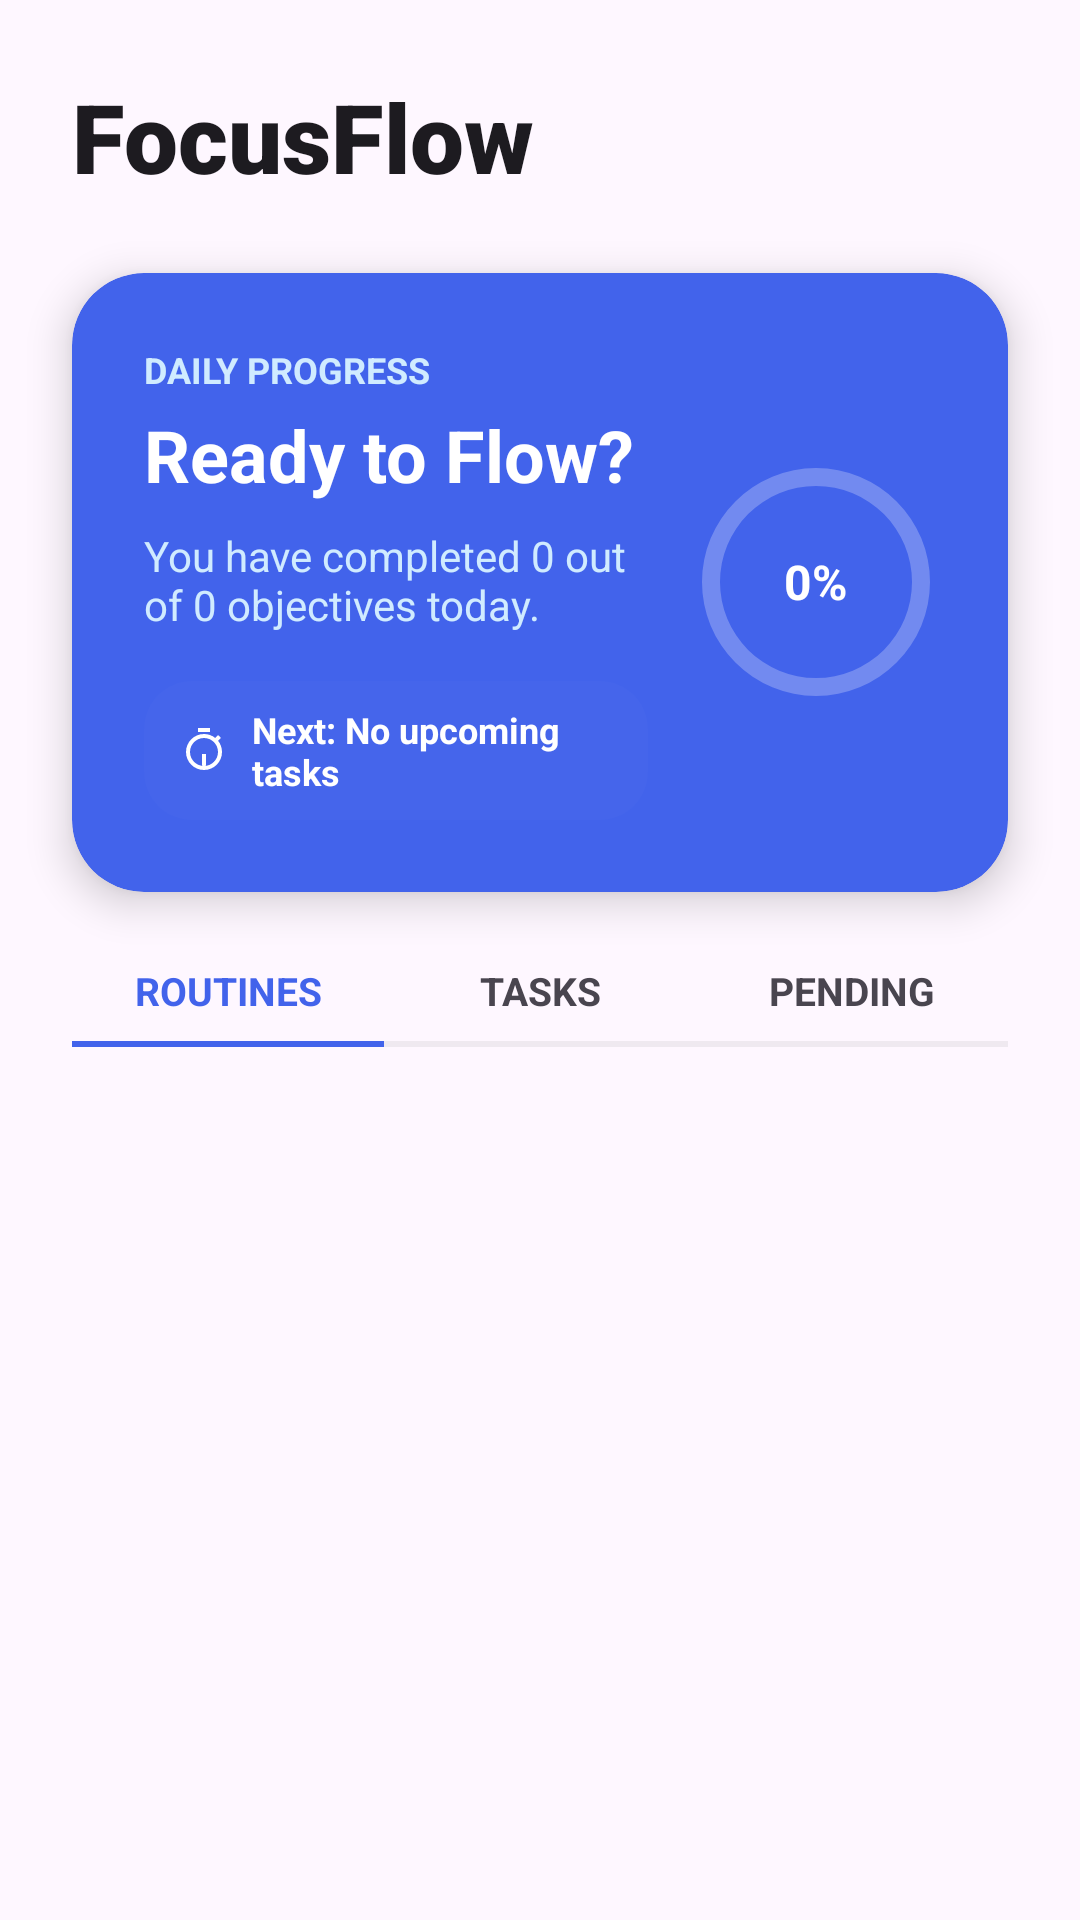

Locate icon controls on the screen. Image size 1080w x 1920h, boxes as (x1, y1, x2, y2).
timer: (186, 728, 222, 770)
